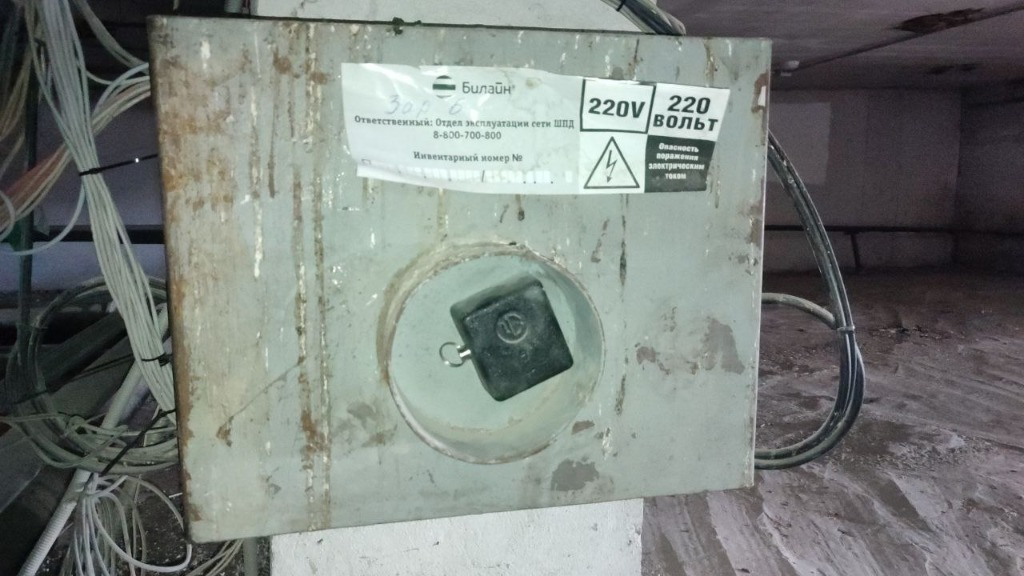shta-3: (147, 14, 775, 544)
